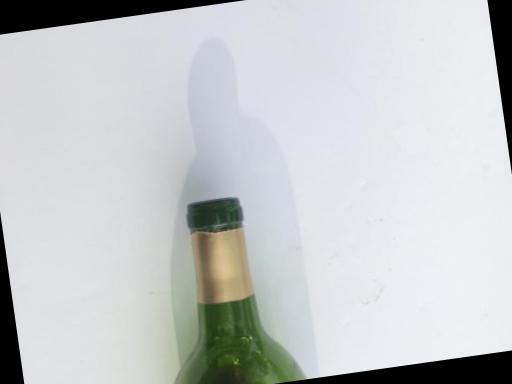glass: (120, 160, 338, 384)
